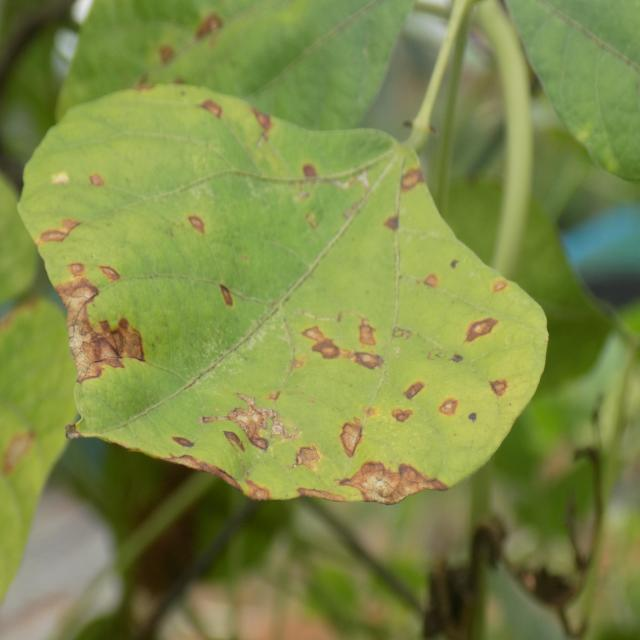Dolicos bean_cercospora leaf spot: (24, 78, 549, 503)
